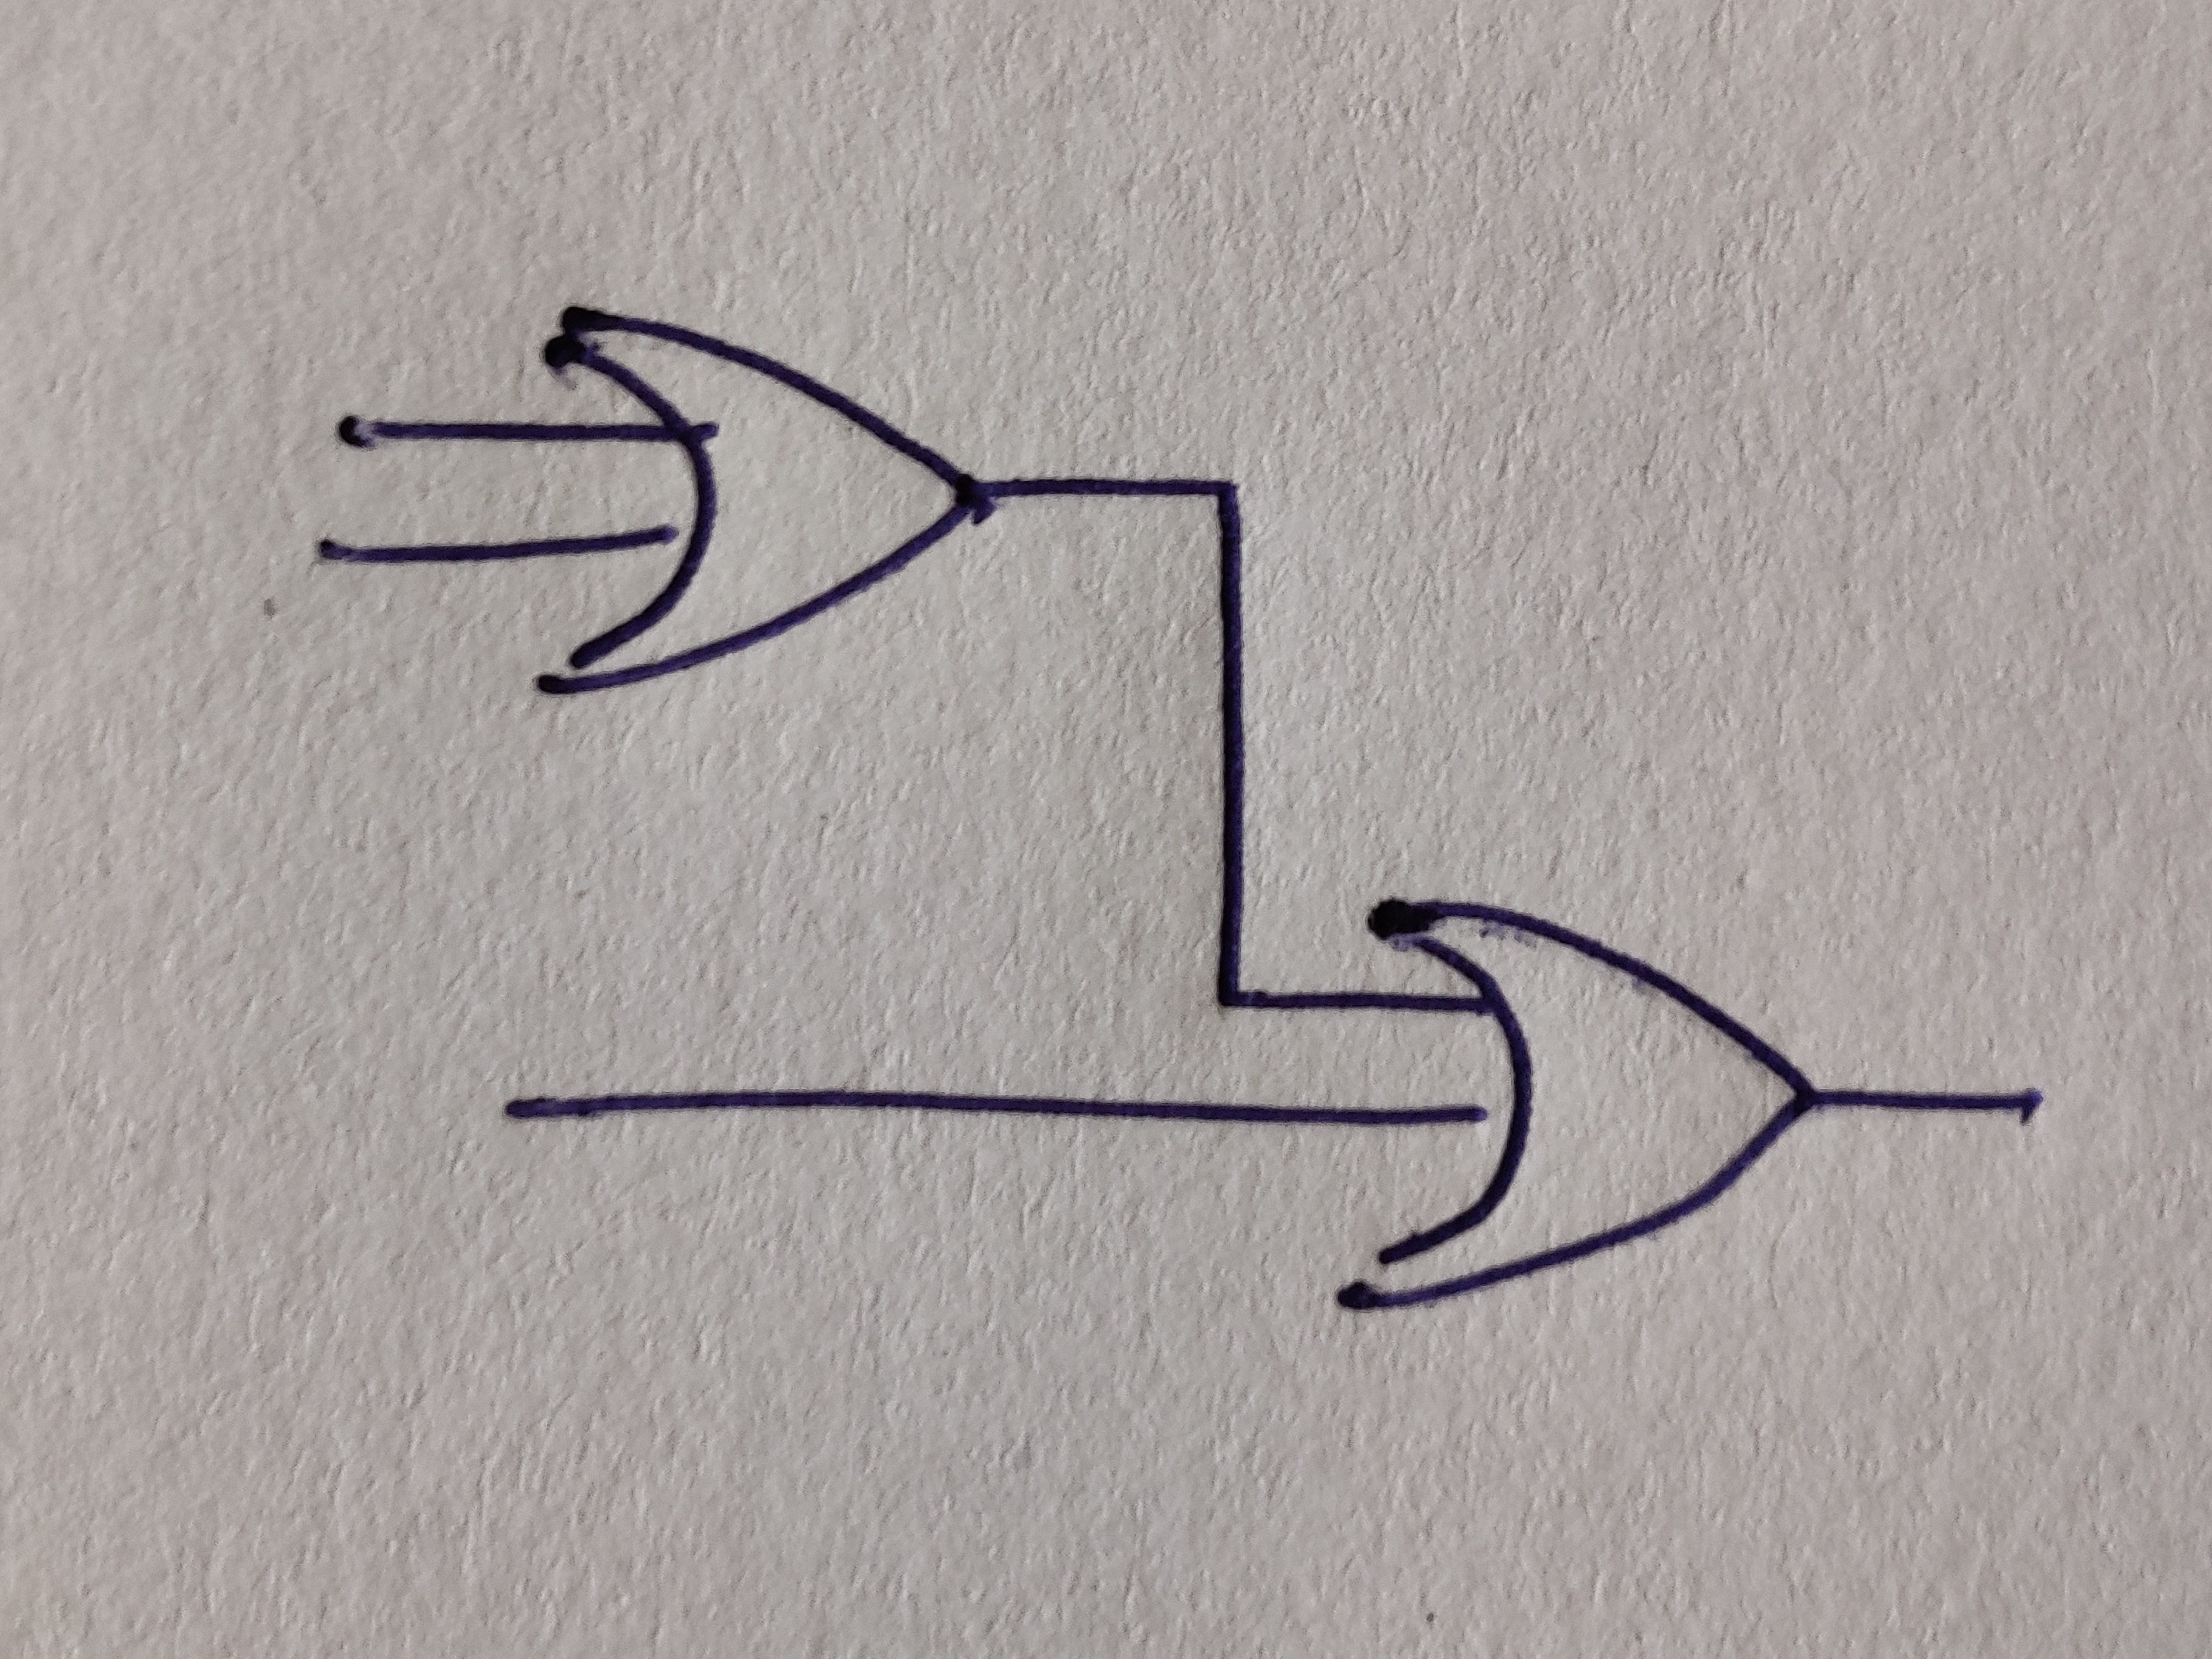or: (1338, 897, 1817, 1312), (538, 308, 996, 695)
